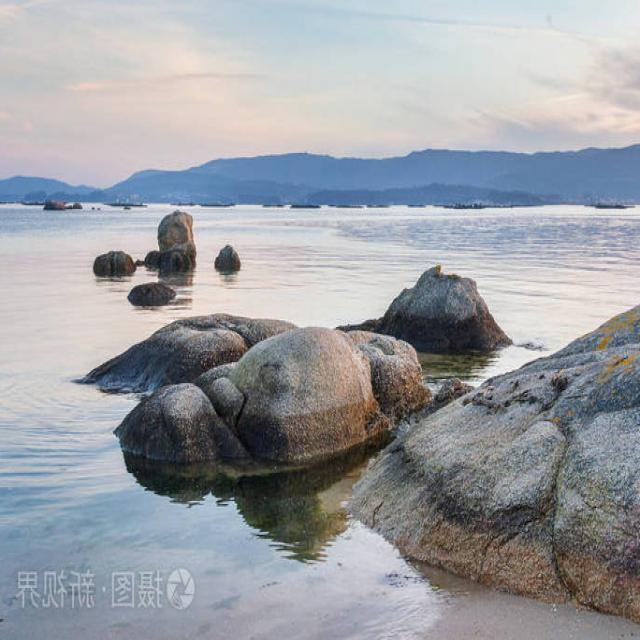reef: (73, 313, 423, 507), (92, 207, 272, 296), (365, 268, 514, 347)
